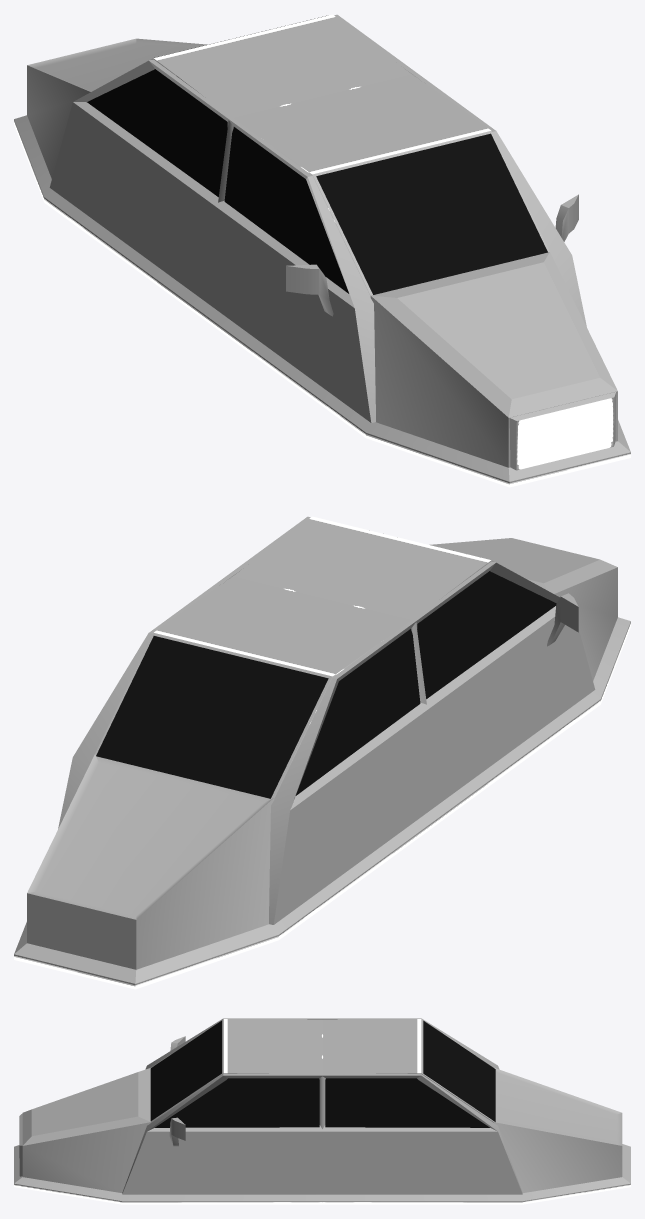
File: KS_SM_Acar.fbx
3 views of the same model, one above another, from view 1: azimuth 30°, elevation 25°; view 2: azimuth 150°, elevation 25°; view 3: azimuth 270°, elevation 25° (orthographic). The views are drawn at different scales.
Parts seen in each view (by area): view 1: KS_SM_Acar, Object002, Box015; view 2: KS_SM_Acar, Object002; view 3: KS_SM_Acar, Object002.
Part boxes in pixels (x1=…): KS_SM_Acar: x1=14, y1=14, x2=630, y2=487; Object002: x1=49, y1=14, x2=586, y2=422; Box015: x1=509, y1=392, x2=616, y2=470; KS_SM_Acar: x1=14, y1=516, x2=630, y2=989; Object002: x1=58, y1=516, x2=595, y2=924; KS_SM_Acar: x1=14, y1=1019, x2=630, y2=1204; Object002: x1=122, y1=1018, x2=522, y2=1194.
Bounding box in the file's own units: 493 × 330 × 1445.
